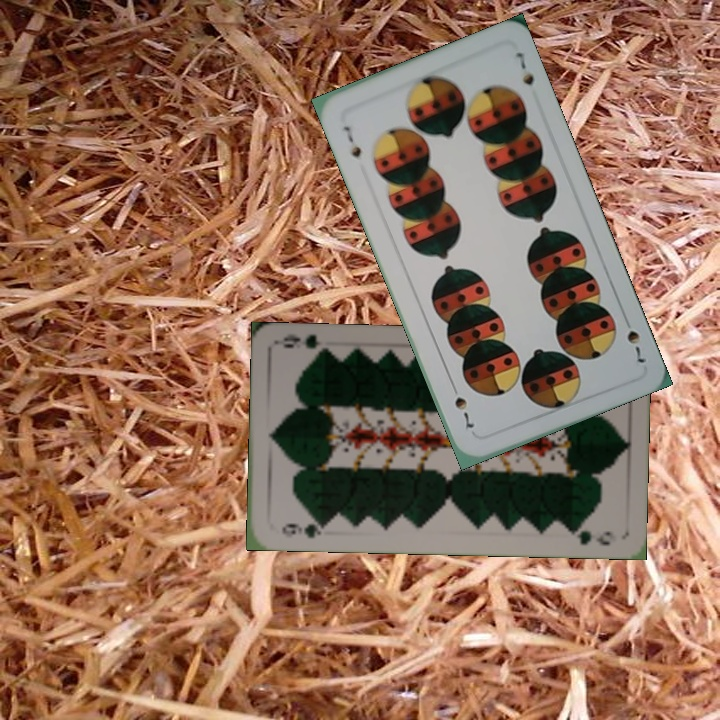G9: (278, 516, 330, 541)
S7: (619, 311, 648, 366), (338, 121, 364, 160)
